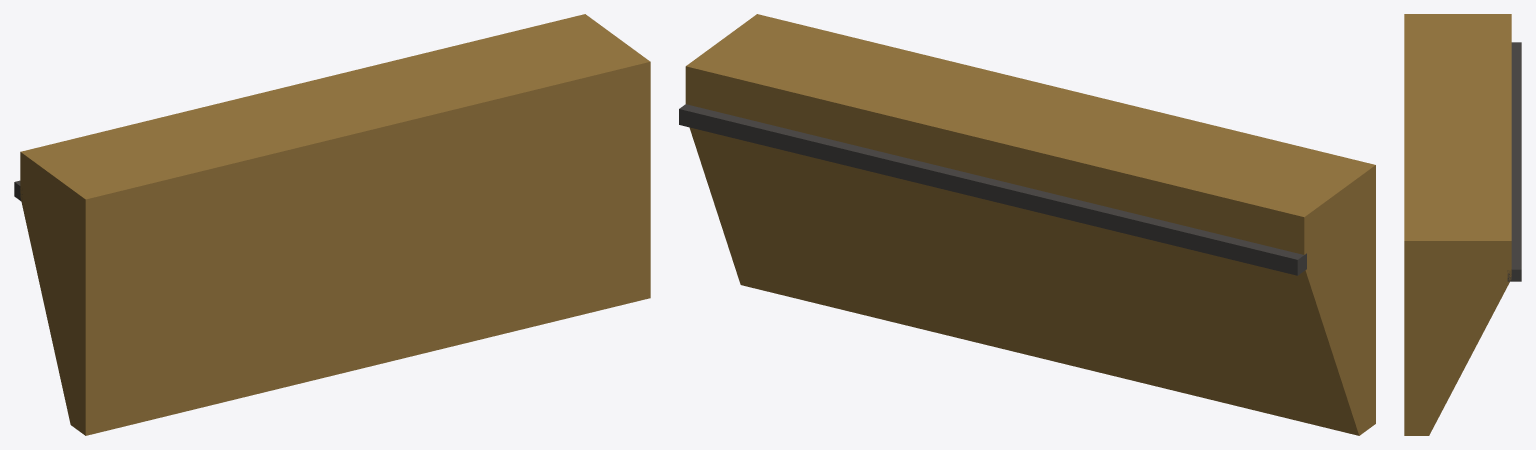
The model's file is hood_flare.glb.
3 views of the same model, side by side, from view 1: azimuth 30°, elevation 25°; view 2: azimuth 150°, elevation 25°; view 3: azimuth 270°, elevation 25° (orthographic). The views are drawn at different scales.
Parts seen in each view (by area): view 1: hood_flare; view 2: hood_flare; view 3: hood_flare.
Part boxes in pixels (<box>): hood_flare: <box>14,14,650,435</box>; hood_flare: <box>679,14,1375,435</box>; hood_flare: <box>1404,14,1521,435</box>.
Size of the model in its own units: 0.65 by 0.26 by 0.142.
